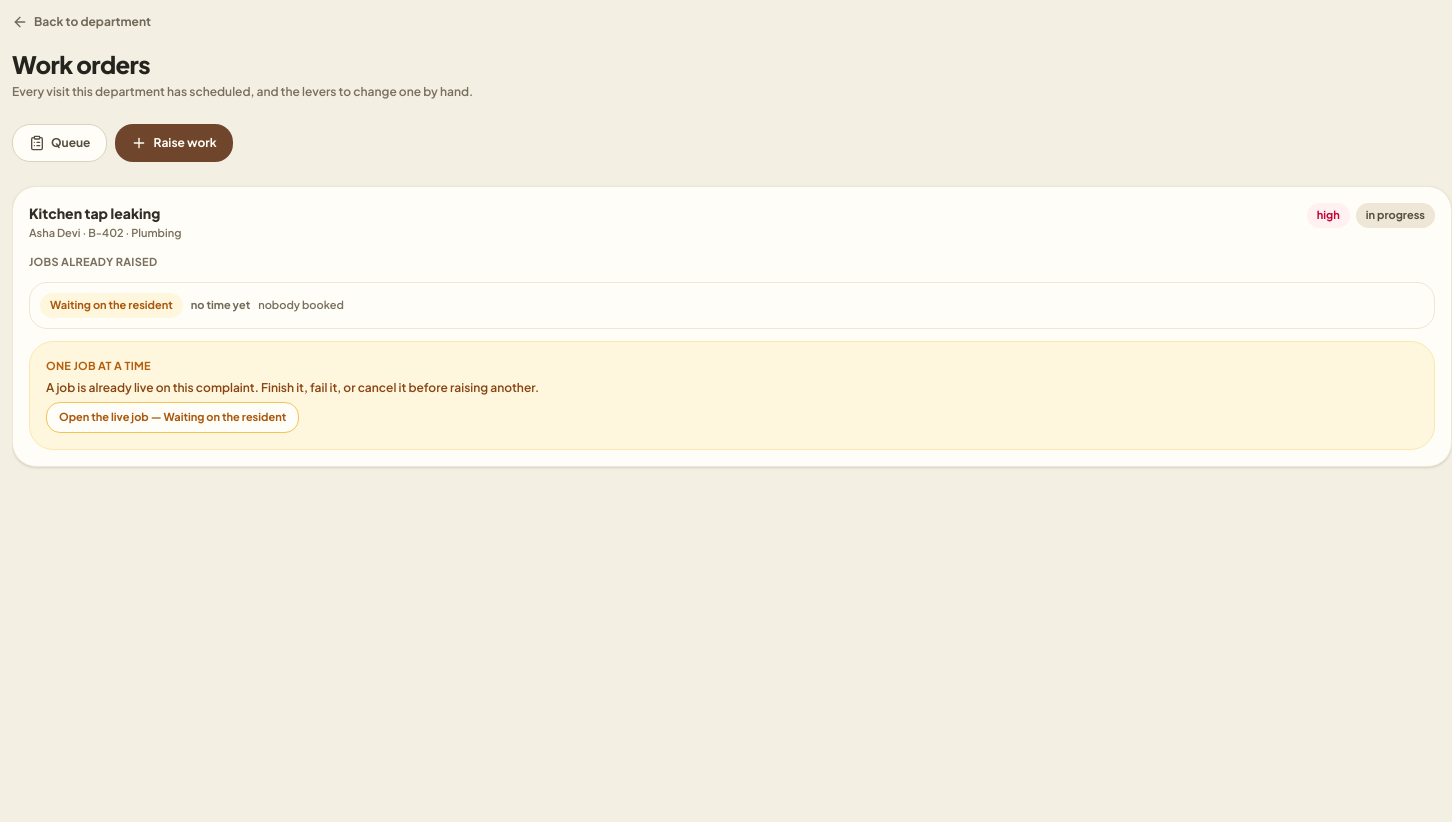
Scenario: the raise form is gated on the complaint having no live job › opens the live job directly from the panel (owner ruling 2026-08-28)
Click the button "Open the live job — Waiting on the resident" at (173, 417), box [46,402,299,432]
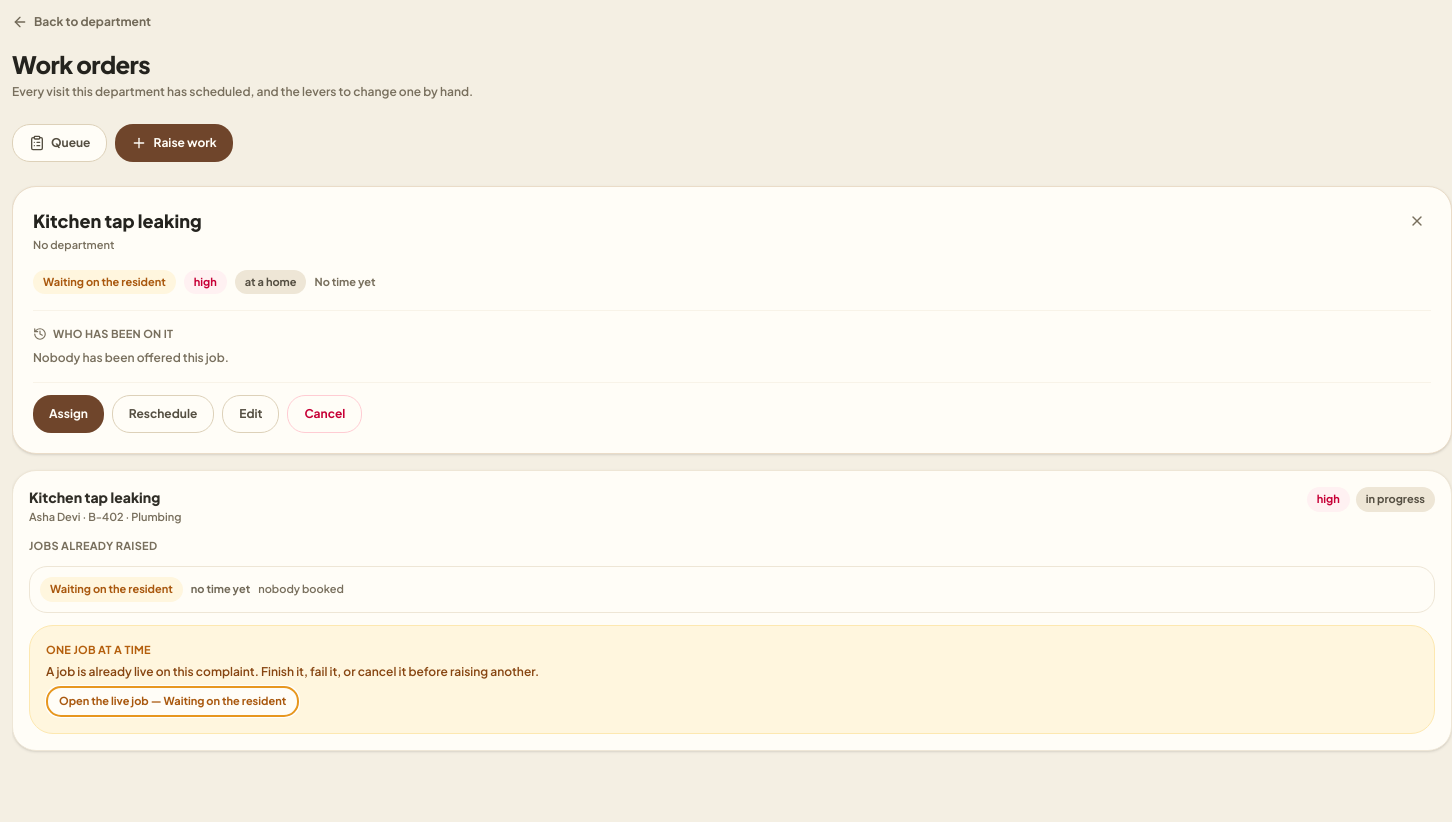
Expected: the heading "Kitchen tap leaking" is shown, [33,207,202,235]
Expected: the button named "Close this job" is shown, [1403,207,1431,235]
